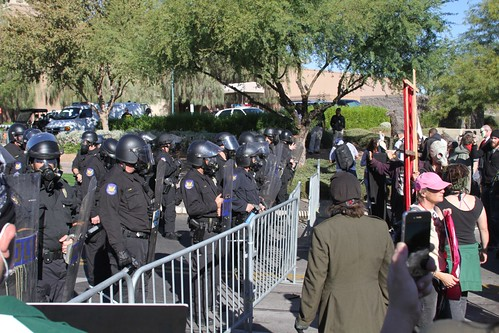policeman: (18, 128, 77, 306), (174, 135, 226, 320), (115, 142, 157, 296), (227, 144, 269, 298)
tree: (156, 1, 426, 136), (1, 1, 175, 121)
